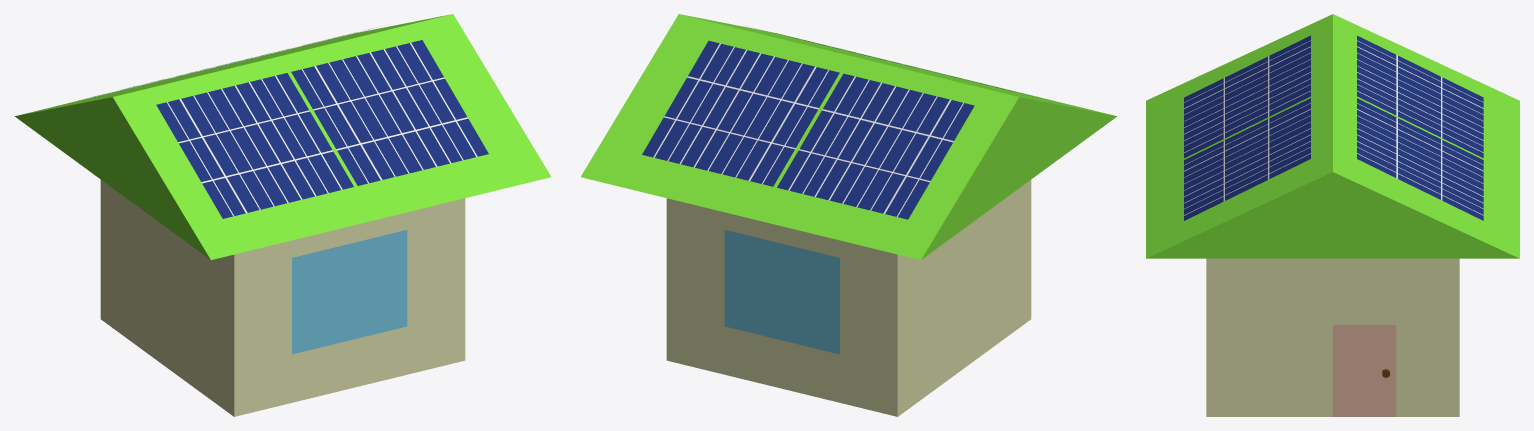
The model's file is house_eco_model.fbx.
3 views of the same model, side by side, from view 1: azimuth 30°, elevation 25°; view 2: azimuth 150°, elevation 25°; view 3: azimuth 270°, elevation 25° (orthographic). The views are drawn at different scales.
Parts seen in each view (by area): view 1: 平面.001; view 2: 平面.001; view 3: 平面.001.
Boxes of the visible parts, bbox=[...] form: 平面.001: bbox=[15, 14, 550, 416]; 平面.001: bbox=[581, 14, 1116, 416]; 平面.001: bbox=[1146, 14, 1519, 416].
Size of the model in its own units: 134 by 107 by 134.
